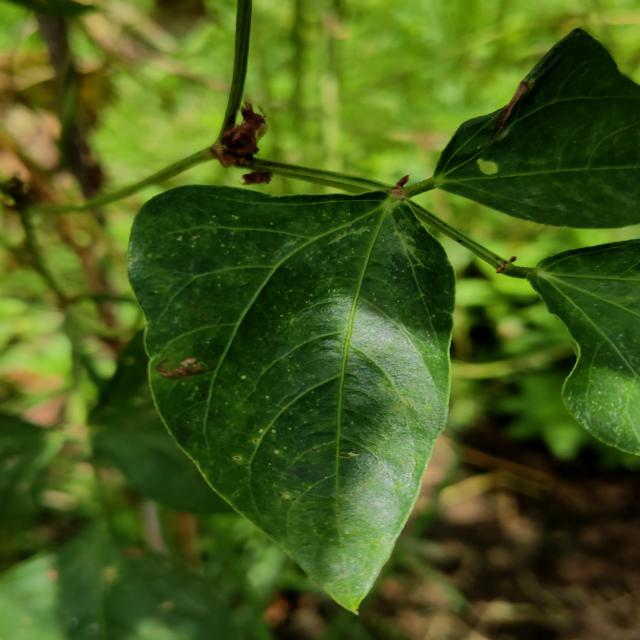sitaw-aphid-high: (129, 154, 505, 615), (420, 30, 640, 228), (504, 239, 640, 455)
